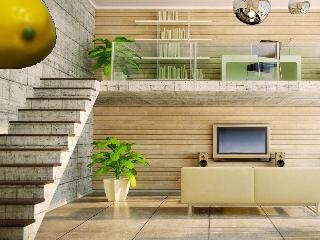lemon: (0, 0, 57, 67)
